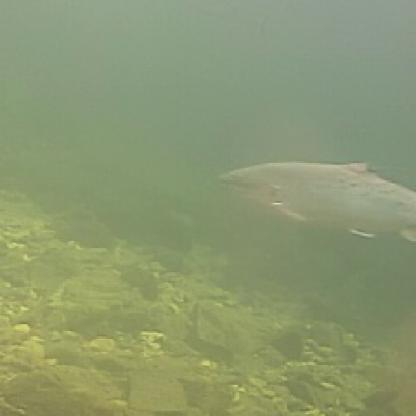salmon: (208, 152, 414, 248)
